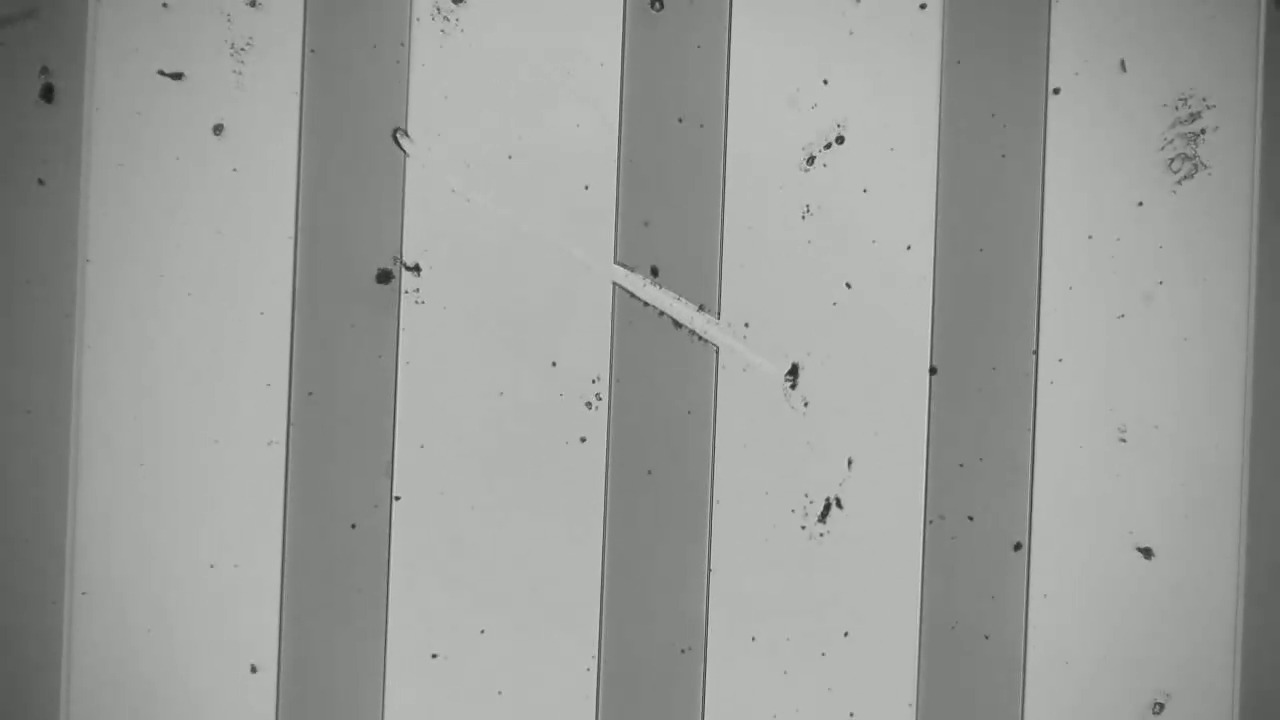Short_circuit: (599, 242, 761, 379)
